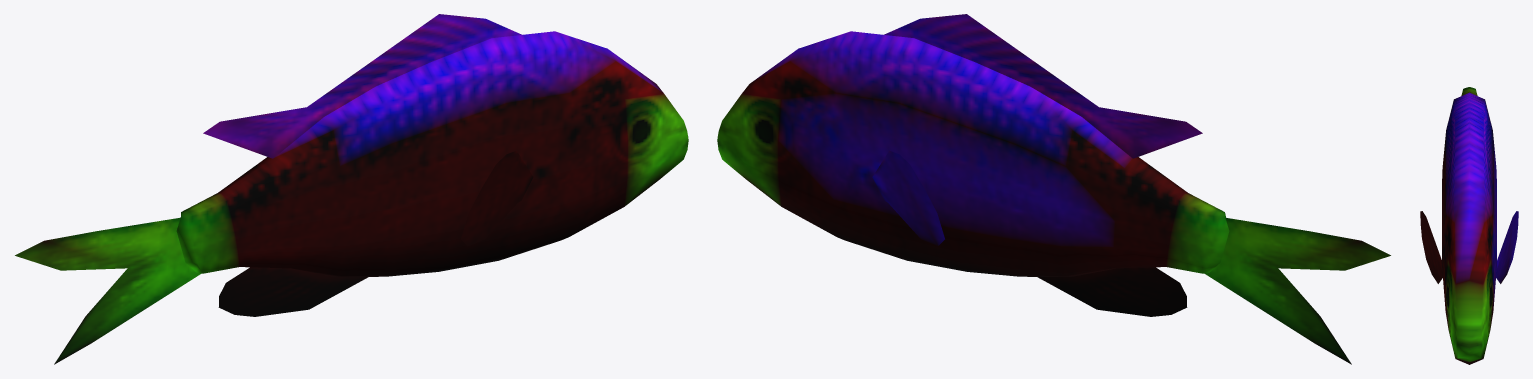
Rendered from blue_green_chromis.glb.
3 views of the same model, side by side, from view 1: azimuth 30°, elevation 25°; view 2: azimuth 150°, elevation 25°; view 3: azimuth 270°, elevation 25° (orthographic). The views are drawn at different scales.
Visible parts, largest first — view 1: BlueGreenChromis; view 2: BlueGreenChromis; view 3: BlueGreenChromis.
Boxes of the visible parts, box(x1,y1,x2,y2) form: BlueGreenChromis: box(15, 14, 688, 364); BlueGreenChromis: box(717, 14, 1390, 364); BlueGreenChromis: box(1420, 87, 1518, 364).
Size of the model in its own units: 1 by 0.3743 by 0.1415.
1 material, 1 textured.
